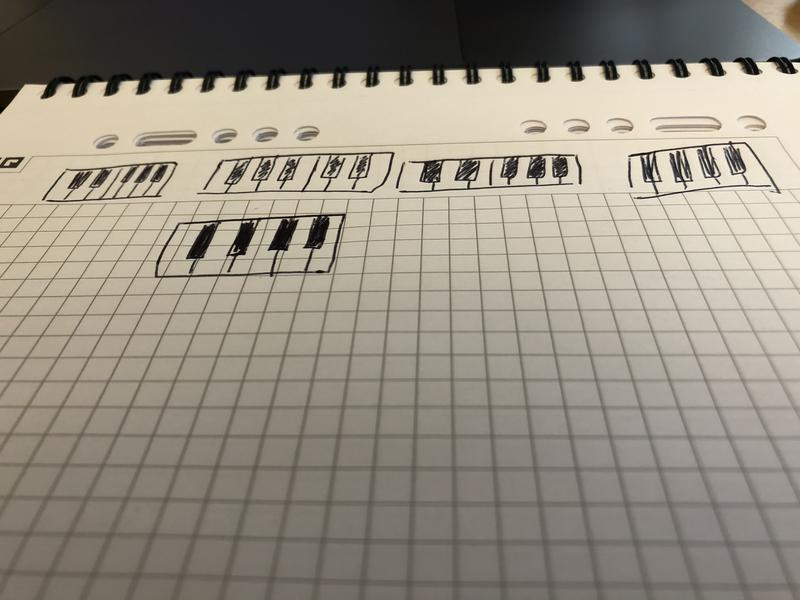piano: (158, 212, 344, 279), (619, 142, 784, 203), (199, 151, 391, 194), (47, 157, 181, 206), (395, 154, 588, 188)
